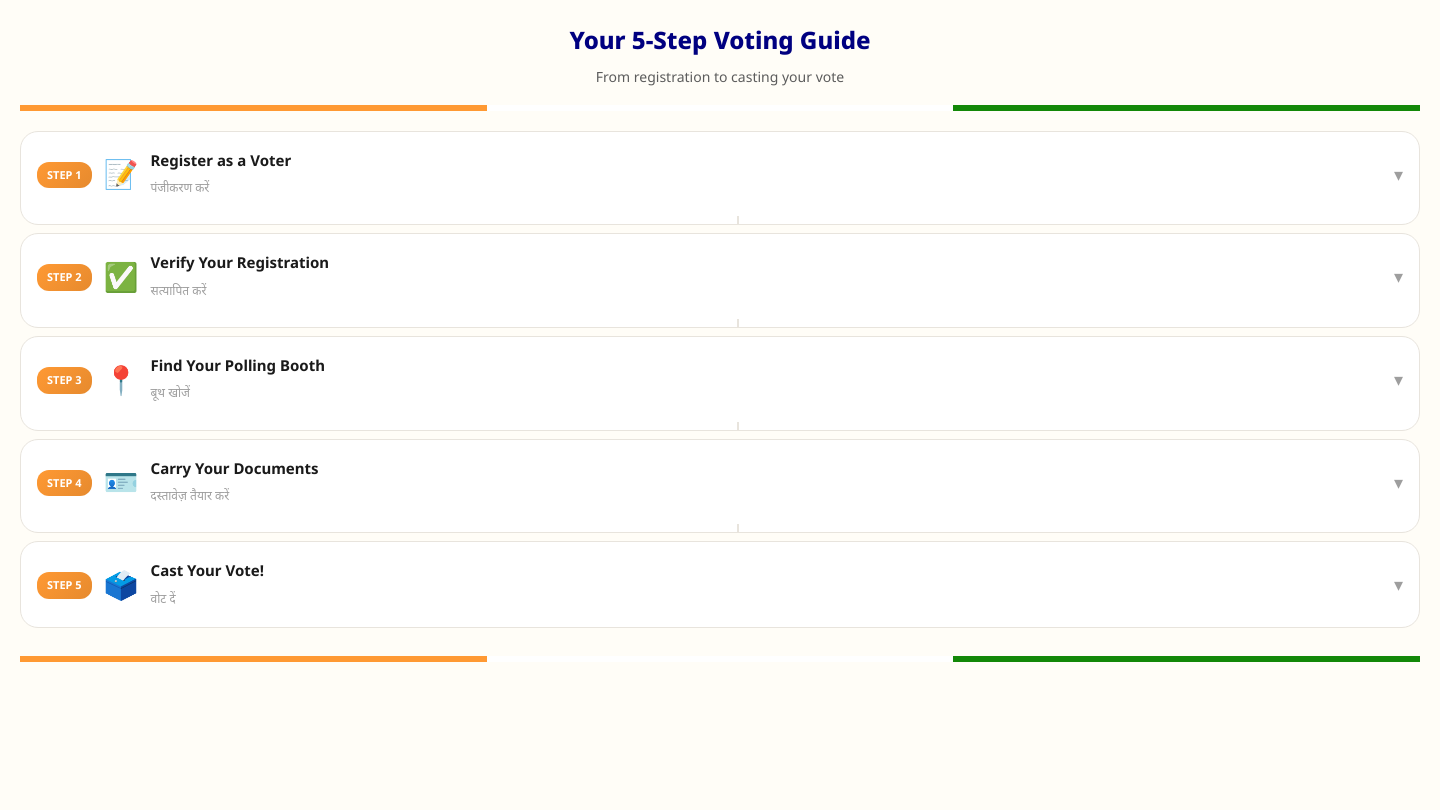
Scenario: Guide › collapses step when clicked again
The width and height of the screenshot is (1440, 810).
# Click to expand
Click the text "Register as a Voter".
click(720, 178)  # box [20, 131, 1420, 225]
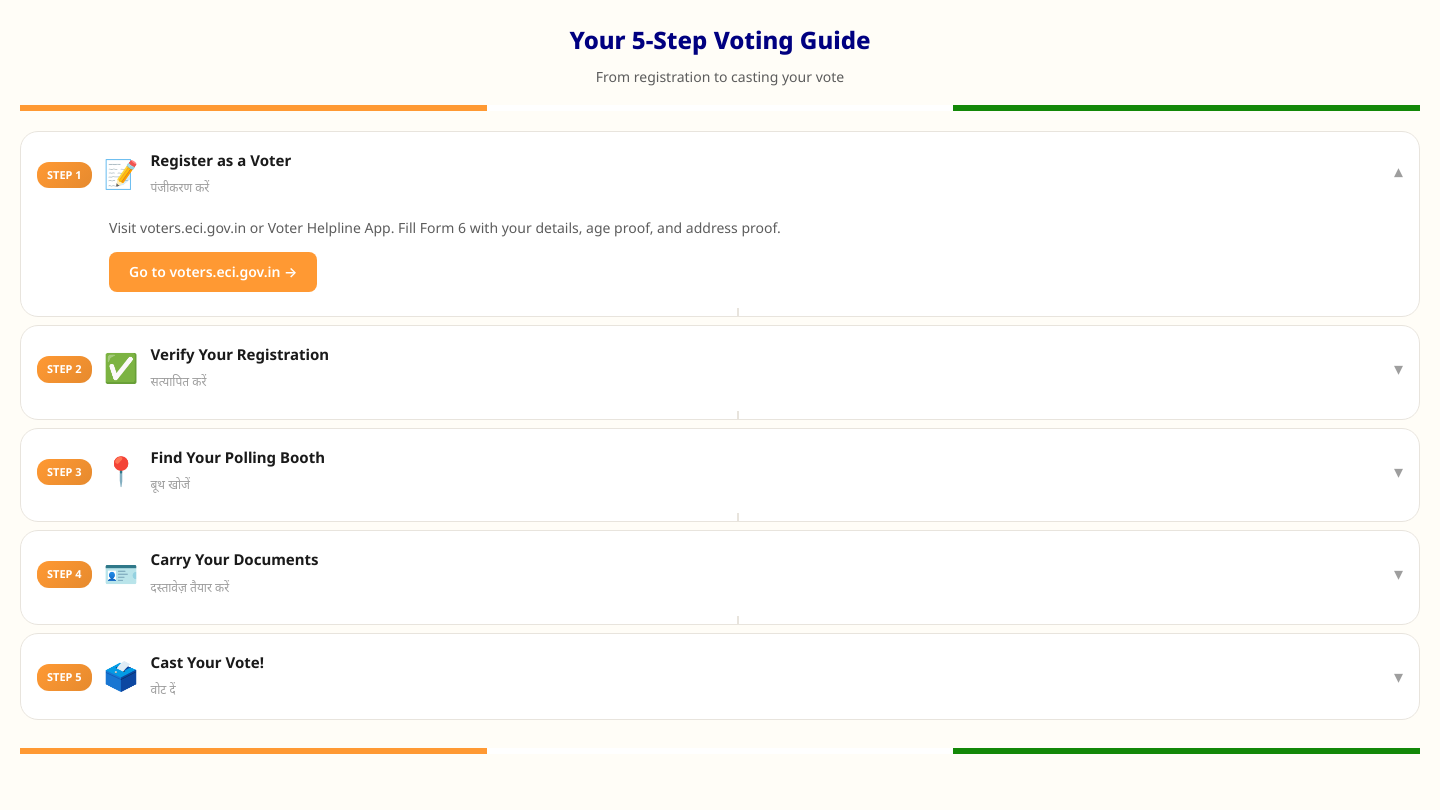
Expected: the text "Visit voters.eci.gov.in" is shown, [109, 218, 781, 237]
# Click to collapse
Click the text "Register as a Voter".
click(720, 224)  # box [20, 131, 1420, 317]
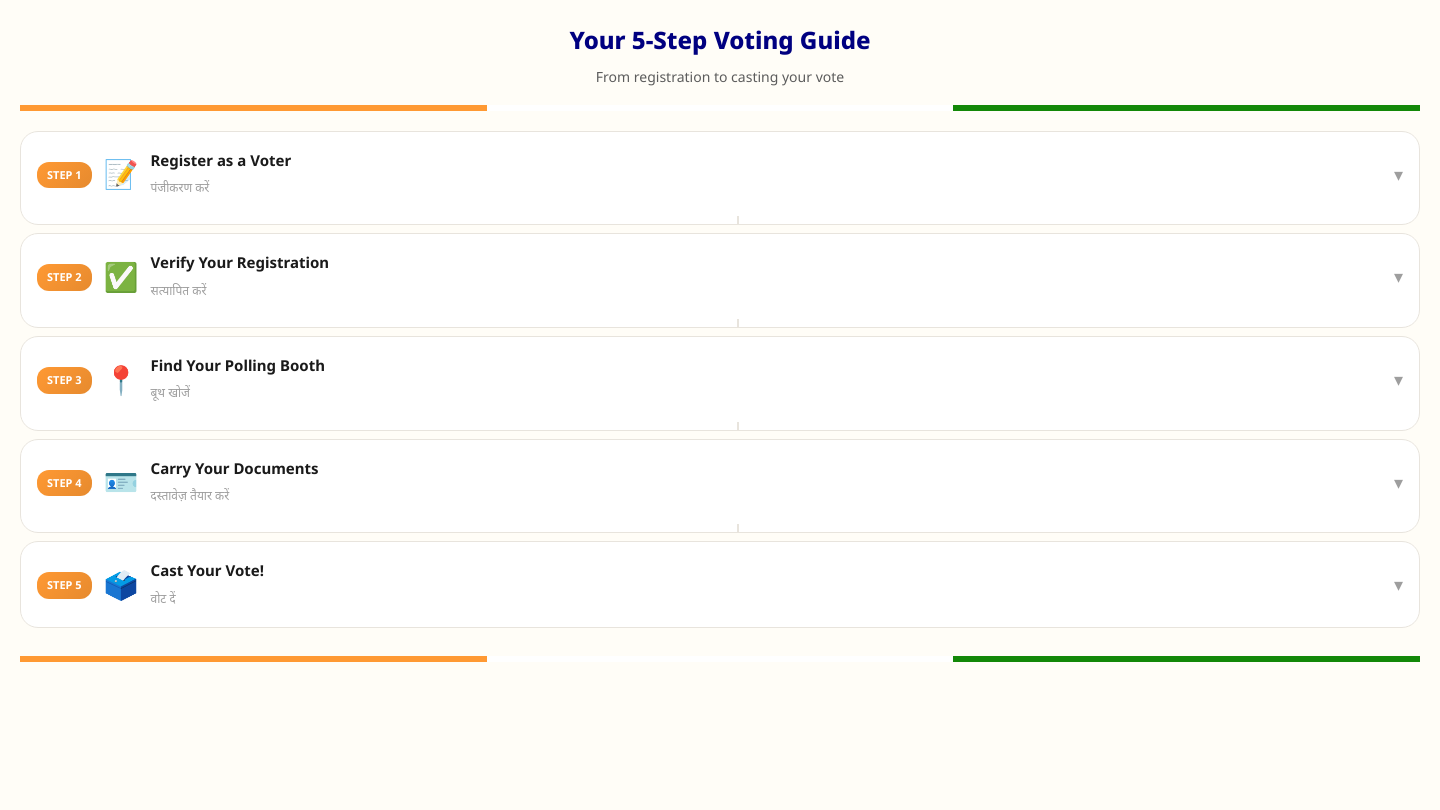
Expected: the text "Visit voters.eci.gov.in" is gone
